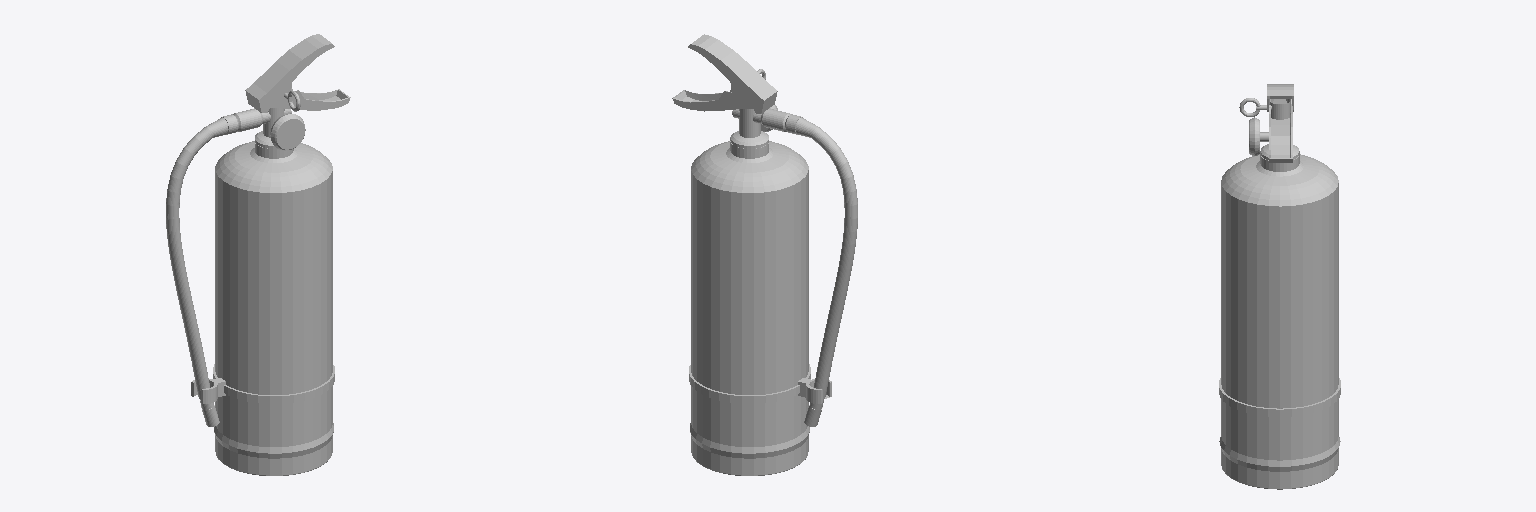
File: fire extinguisher.obj
3 renders of one model, left to right at view 1: azimuth 30°, elevation 25°; view 2: azimuth 150°, elevation 25°; view 3: azimuth 270°, elevation 25°, orthographic.
Parts seen in each view (by area): view 1: Mesh; view 2: Mesh; view 3: Mesh.
Part boxes in pixels (x1,y1,x2,y2): Mesh: (166,34,350,475); Mesh: (672,34,857,475); Mesh: (1219,84,1340,489).
Bounding box in the file's own units: 1.06 × 2.27 × 0.6328.